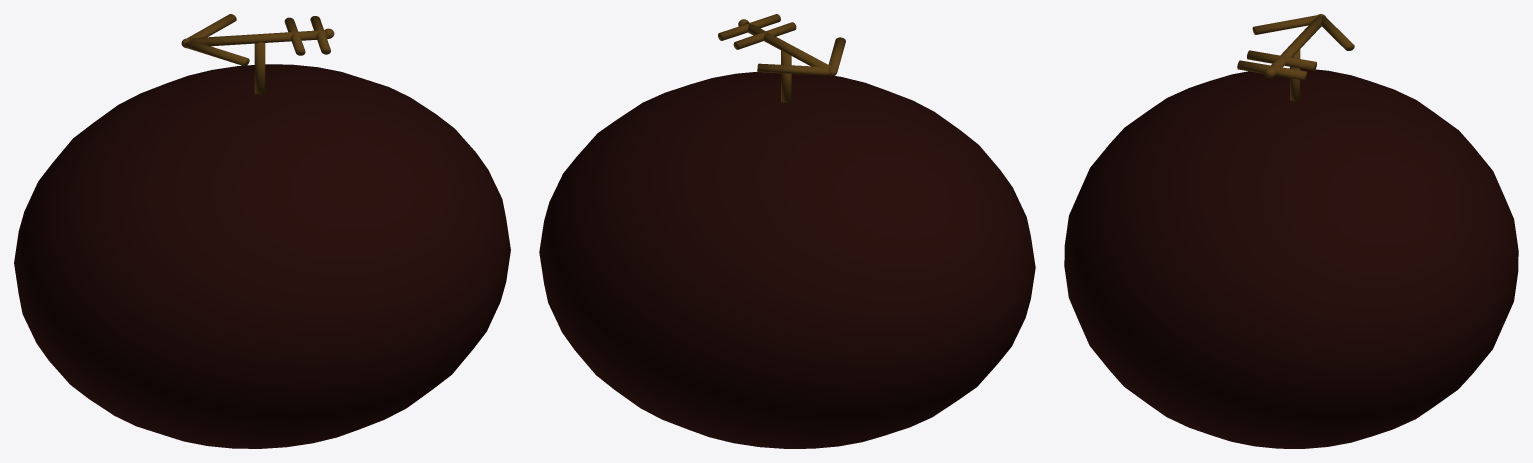
Rendered from patrick_house_1.obj.
3 renders of one model, left to right at view 1: azimuth 30°, elevation 25°; view 2: azimuth 150°, elevation 25°; view 3: azimuth 270°, elevation 25°, orthographic. The views are drawn at different scales.
Visible parts, largest first — view 1: Sphere; view 2: Sphere; view 3: Sphere.
Boxes of the visible parts, bbox=[...] form: Sphere: bbox=[14, 14, 510, 448]; Sphere: bbox=[539, 14, 1035, 448]; Sphere: bbox=[1064, 14, 1518, 448].
Size of the model in its own units: 3.59 by 3 by 3.29.
